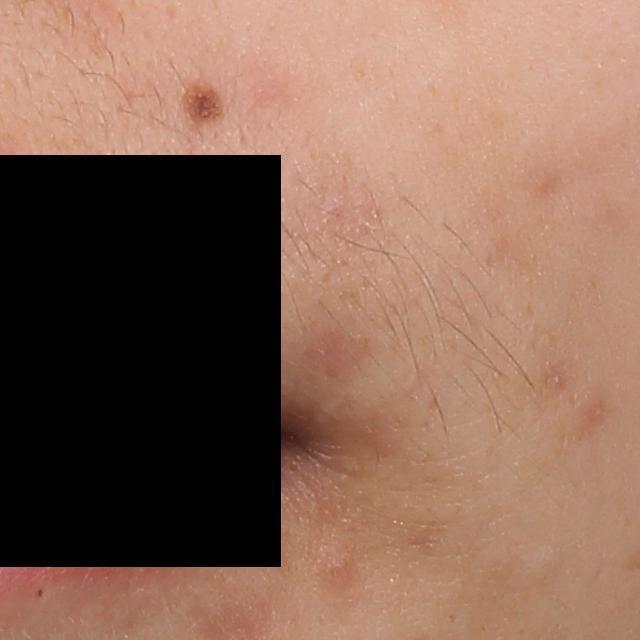nevus: (176, 77, 227, 127)
